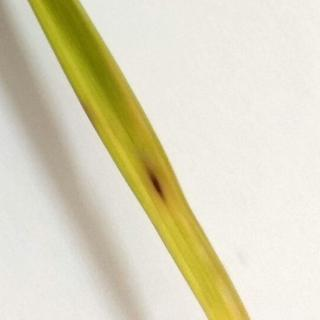bercak-Cokelat: (138, 165, 170, 211)
